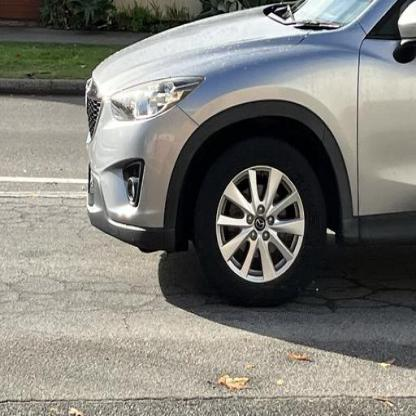Tire: (194, 137, 326, 308)
